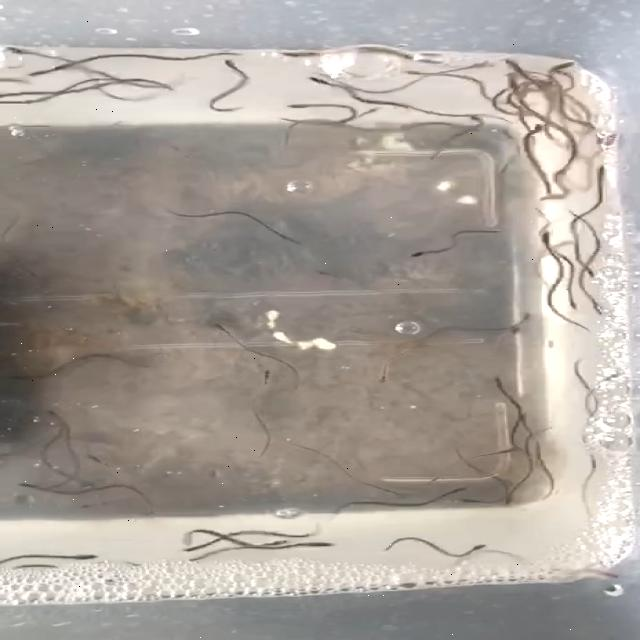inactive_glass_eel: (499, 56, 534, 76), (460, 58, 502, 74), (216, 58, 252, 74), (34, 406, 70, 422), (179, 540, 213, 556), (0, 45, 44, 57), (24, 66, 61, 80), (299, 76, 342, 88), (546, 59, 580, 74), (264, 536, 298, 550), (496, 328, 524, 344), (64, 550, 101, 562), (503, 72, 522, 95), (275, 234, 305, 248), (584, 297, 604, 318), (371, 366, 392, 386), (592, 164, 612, 184), (586, 570, 626, 580), (396, 69, 432, 80), (490, 373, 512, 390), (298, 542, 344, 550), (281, 102, 321, 111), (460, 113, 484, 128), (578, 262, 598, 280), (254, 369, 272, 389), (596, 372, 626, 384), (13, 481, 43, 493), (532, 232, 554, 248), (82, 450, 104, 466), (521, 123, 542, 139), (508, 313, 532, 327), (444, 486, 472, 498), (378, 486, 404, 498), (542, 336, 562, 351), (496, 444, 520, 456), (409, 248, 436, 258), (504, 489, 522, 504), (465, 542, 492, 552), (562, 298, 580, 312), (446, 500, 486, 506), (216, 323, 233, 337)
